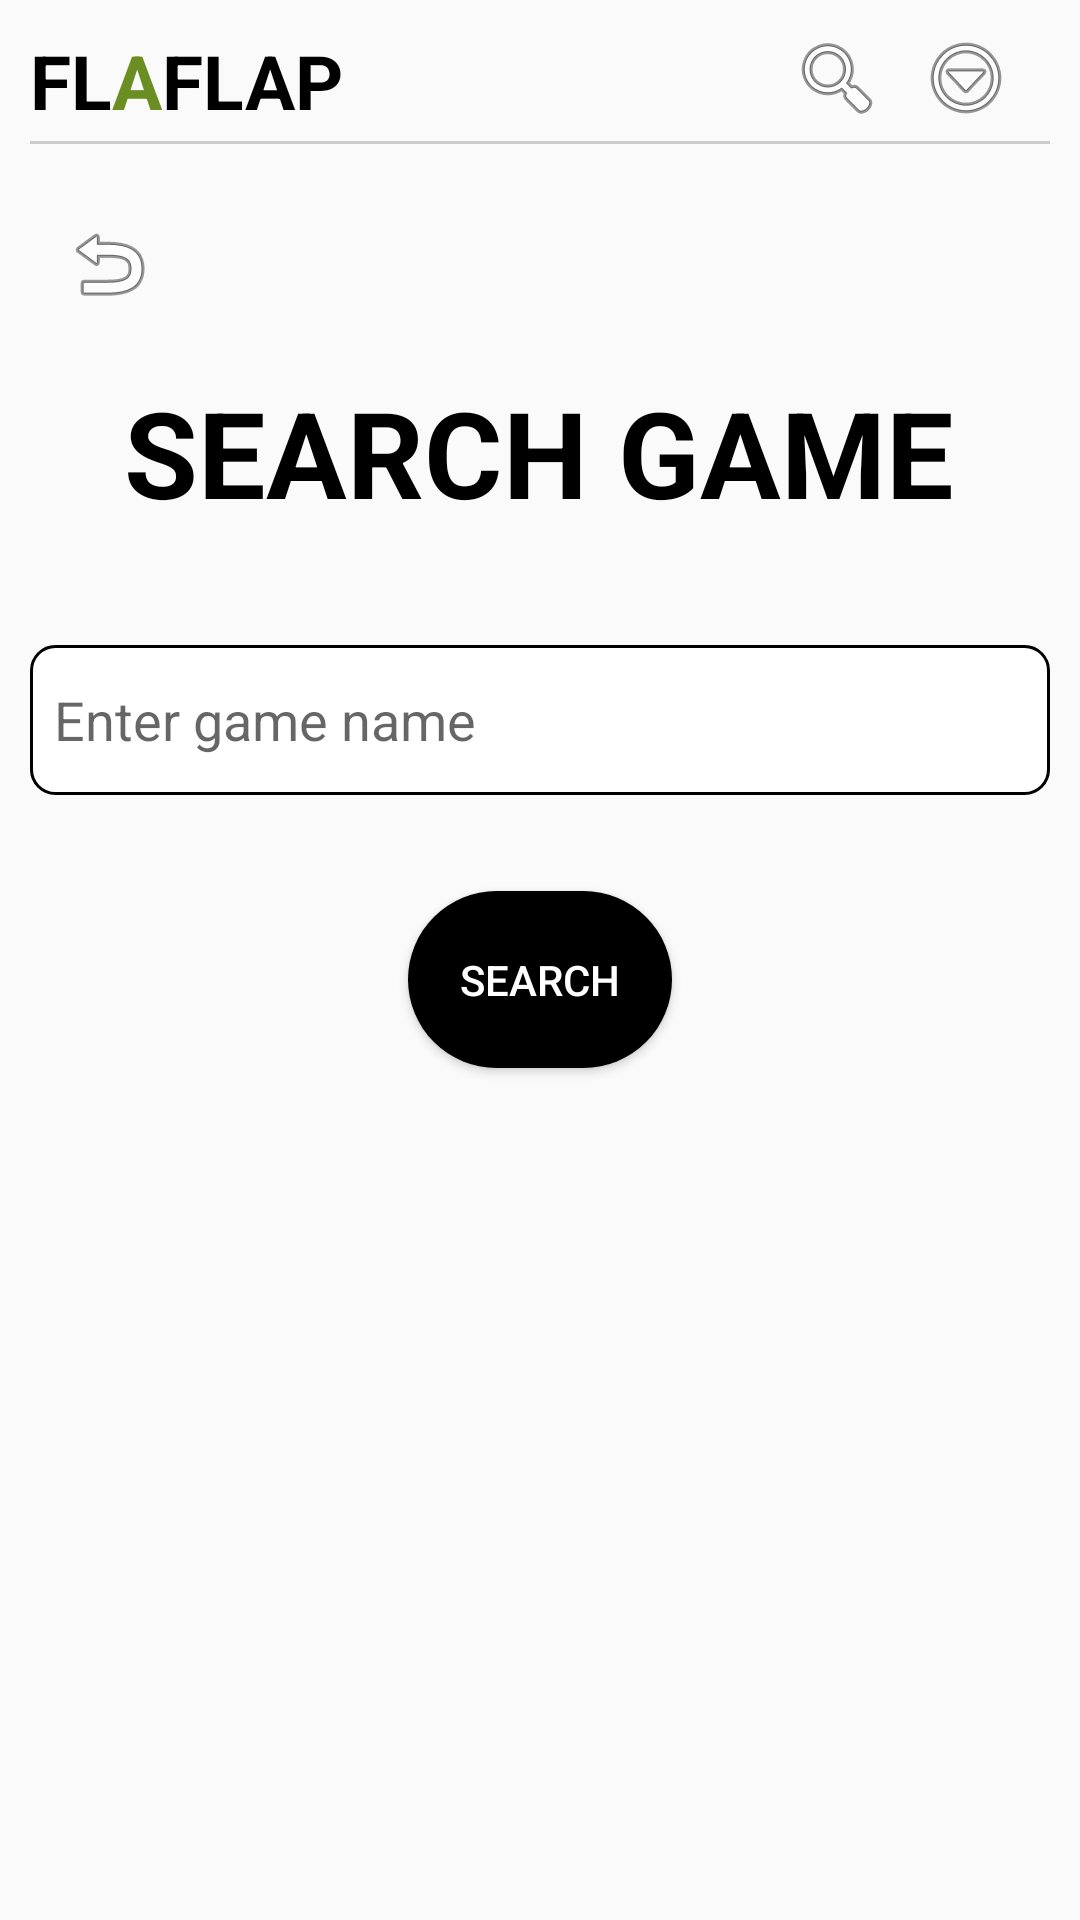

Where icons sit on this 1080px×1920px app screen, as (x1, y1, x2, y2):
Back: (76, 233, 145, 296)
Menu: (930, 42, 1002, 114)
Search: (801, 43, 873, 114)
